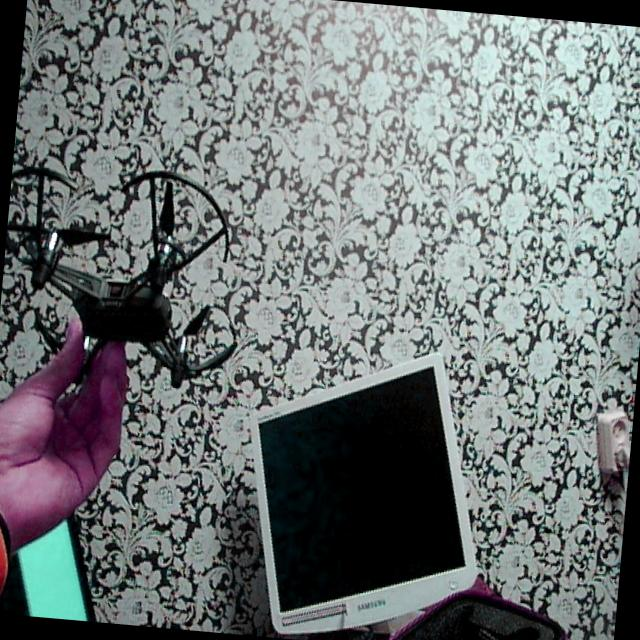drone: (0, 141, 277, 427)
